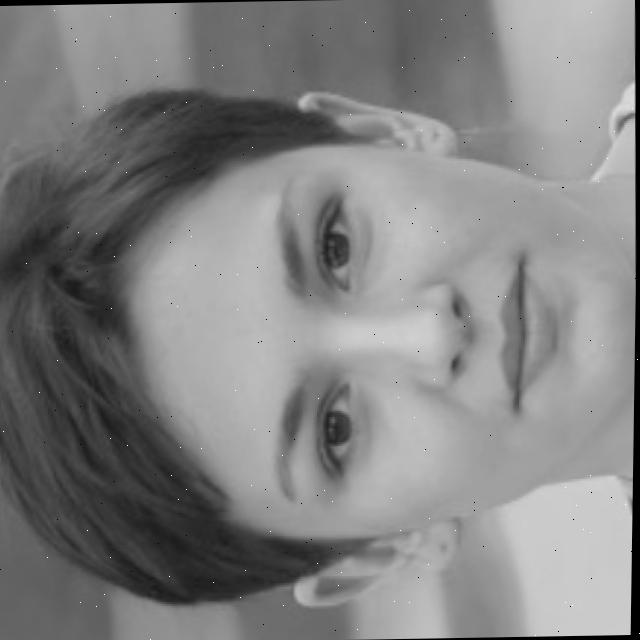natural: (0, 91, 639, 628)
